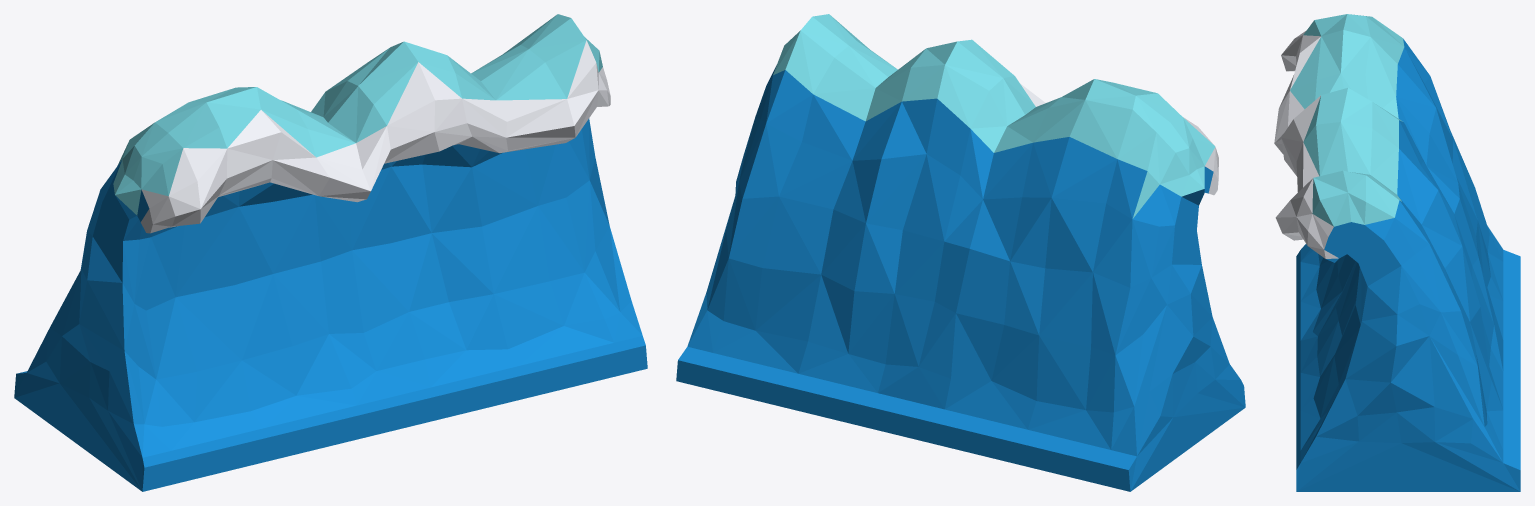
Rendered from WaterWall.fbx.
3 renders of one model, left to right at view 1: azimuth 30°, elevation 25°; view 2: azimuth 150°, elevation 25°; view 3: azimuth 270°, elevation 25°, orthographic. The views are drawn at different scales.
Visible parts, largest first — view 1: WaterWall; view 2: WaterWall; view 3: WaterWall.
Part boxes in pixels (left/top/right/bottom): WaterWall: left=14, top=14, right=647, bottom=491; WaterWall: left=676, top=14, right=1245, bottom=491; WaterWall: left=1274, top=14, right=1520, bottom=491.
Size of the model in its own units: 6 by 4 by 2.86.
